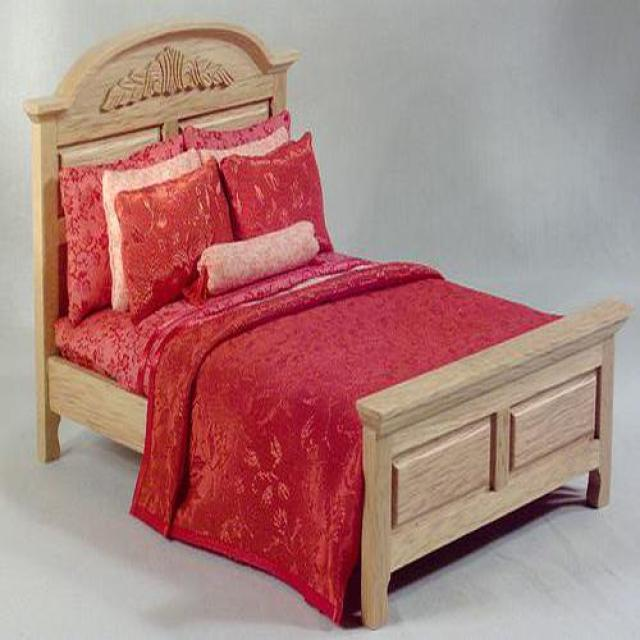bed: (22, 20, 628, 631)
